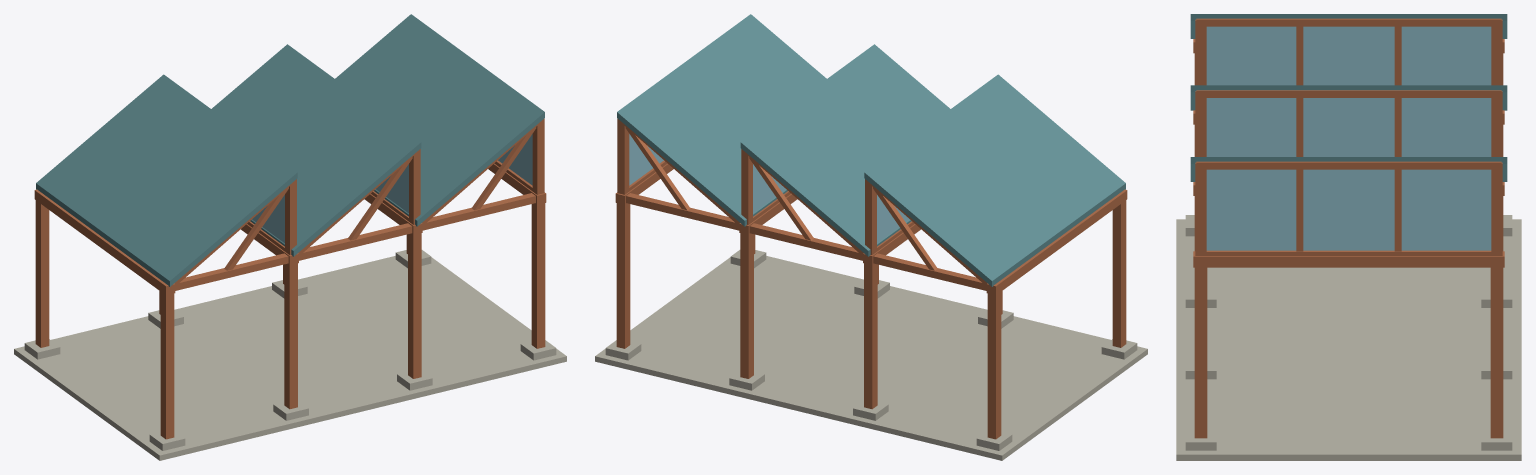
3 renders of one model, left to right at view 1: azimuth 30°, elevation 25°; view 2: azimuth 150°, elevation 25°; view 3: azimuth 270°, elevation 25°, orthographic. The views are drawn at different scales.
Parts seen in each view (by area): view 1: WholeThinFactoryBayFloor, WholeSlopingRoofPlate0, WholeSlopingRoofPlate2, WholeSlopingRoofPlate1, WholeFullHeightColumn0Front, WholeFullHeightColumn3Front, WholeFullHeightColumn0Rear, WholeFullHeightColumn2Front, WholeFullHeightColumn1Front, WholeTransverseLowerBeam0, WholeRoofTrussLowerChord0Front, WholeRoofTrussLowerChord2Front (+10 smaller); view 2: WholeThinFactoryBayFloor, WholeSlopingRoofPlate0, WholeSlopingRoofPlate2, WholeSlopingRoofPlate1, WholeFullHeightColumn0Rear, WholeFullHeightColumn3Rear, WholeFullHeightColumn0Front, WholeFullHeightColumn2Rear, WholeFullHeightColumn1Rear, WholeTransverseLowerBeam0, WholeRoofTrussLowerChord0Rear, WholeRoofTrussLowerChord2Rear (+10 smaller); view 3: WholeThinFactoryBayFloor, WholeOpaqueClerestoryPane2_1, WholeOpaqueClerestoryPane2_0, WholeOpaqueClerestoryPane2_2, WholeOpaqueClerestoryPane0_1, WholeOpaqueClerestoryPane0_0, WholeOpaqueClerestoryPane0_2, WholeOpaqueClerestoryPane1_1, WholeOpaqueClerestoryPane1_0, WholeOpaqueClerestoryPane1_2, WholeTransverseLowerBeam3, WholeClerestoryHead2 (+26 smaller).
Boxes of the visible parts, left/top/right/bottom form: WholeThinFactoryBayFloor: left=14, top=256, right=566, bottom=460; WholeSlopingRoofPlate0: left=36, top=74, right=297, bottom=286; WholeSlopingRoofPlate2: left=335, top=14, right=544, bottom=226; WholeSlopingRoofPlate1: left=211, top=44, right=421, bottom=256; WholeFullHeightColumn0Front: left=160, top=292, right=174, bottom=439; WholeFullHeightColumn3Front: left=531, top=203, right=545, bottom=348; WholeFullHeightColumn0Rear: left=35, top=200, right=49, bottom=347; WholeFullHeightColumn2Front: left=408, top=233, right=421, bottom=378; WholeFullHeightColumn1Front: left=284, top=263, right=297, bottom=409; WholeTransverseLowerBeam0: left=34, top=189, right=175, bottom=295; WholeRoofTrussLowerChord0Front: left=175, top=253, right=288, bottom=290; WholeRoofTrussLowerChord2Front: left=422, top=193, right=535, bottom=230; WholeThinFactoryBayFloor: left=595, top=256, right=1147, bottom=460; WholeSlopingRoofPlate0: left=864, top=74, right=1125, bottom=286; WholeSlopingRoofPlate2: left=617, top=14, right=826, bottom=226; WholeSlopingRoofPlate1: left=740, top=44, right=950, bottom=256; WholeFullHeightColumn0Rear: left=987, top=292, right=1001, bottom=439; WholeFullHeightColumn3Rear: left=616, top=203, right=630, bottom=348; WholeFullHeightColumn0Front: left=1112, top=200, right=1126, bottom=347; WholeFullHeightColumn2Rear: left=740, top=233, right=753, bottom=378; WholeFullHeightColumn1Rear: left=864, top=263, right=877, bottom=409; WholeTransverseLowerBeam0: left=986, top=189, right=1127, bottom=295; WholeRoofTrussLowerChord0Rear: left=873, top=253, right=986, bottom=290; WholeRoofTrussLowerChord2Rear: left=626, top=193, right=739, bottom=230; WholeThinFactoryBayFloor: left=1176, top=219, right=1521, bottom=460; WholeOpaqueClerestoryPane2_1: left=1303, top=169, right=1394, bottom=250; WholeOpaqueClerestoryPane2_0: left=1206, top=169, right=1296, bottom=250; WholeOpaqueClerestoryPane2_2: left=1401, top=169, right=1491, bottom=250; WholeOpaqueClerestoryPane0_1: left=1303, top=26, right=1394, bottom=85; WholeOpaqueClerestoryPane0_0: left=1206, top=26, right=1296, bottom=85; WholeOpaqueClerestoryPane0_2: left=1401, top=26, right=1491, bottom=85; WholeOpaqueClerestoryPane1_1: left=1303, top=98, right=1394, bottom=156; WholeOpaqueClerestoryPane1_0: left=1206, top=98, right=1296, bottom=156; WholeOpaqueClerestoryPane1_2: left=1401, top=98, right=1491, bottom=156; WholeTransverseLowerBeam3: left=1193, top=251, right=1504, bottom=267; WholeClerestoryHead2: left=1196, top=161, right=1501, bottom=169.
Size of the model in its own units: 7.9 by 4.62 by 4.9.
